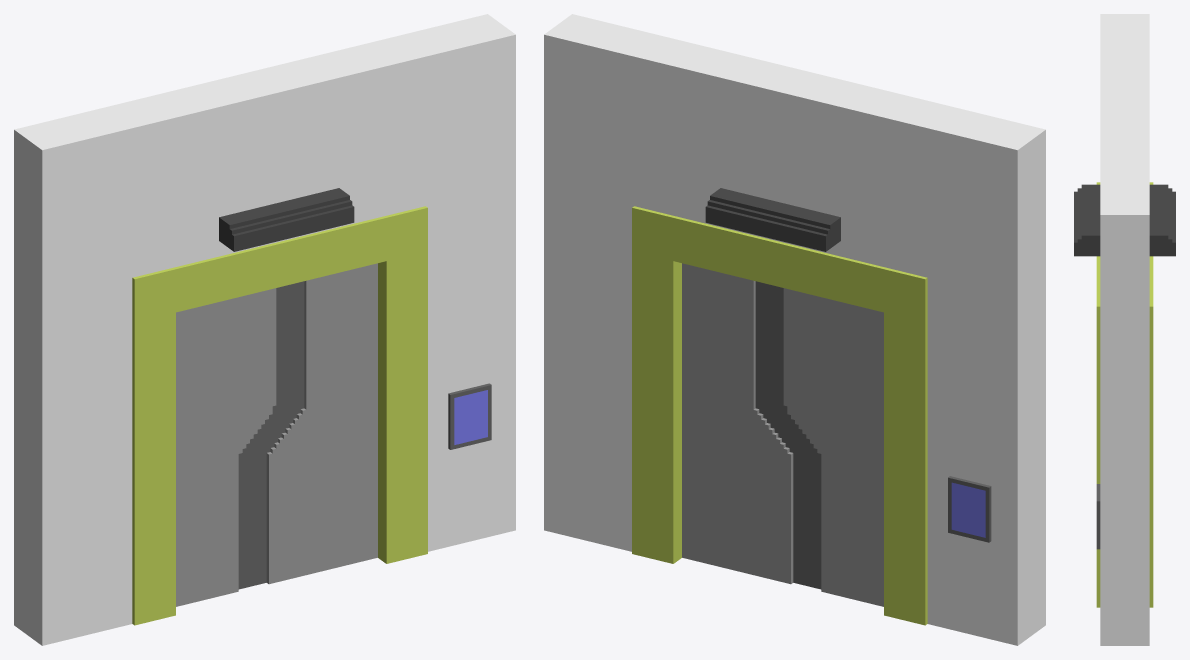
The model's file is Operating_room_Door1-1.fbx.
3 views of the same model, side by side, from view 1: azimuth 30°, elevation 25°; view 2: azimuth 150°, elevation 25°; view 3: azimuth 270°, elevation 25° (orthographic). The views are drawn at different scales.
Visible parts, largest first — view 1: Operating room Door1-1.000, Operating room Door1-1.007, Operating room Door1-1.006, Operating room Door1-1.008; view 2: Operating room Door1-1.000, Operating room Door1-1.007, Operating room Door1-1.006, Operating room Door1-1.005; view 3: Operating room Door1-1.000.
Boxes of the visible parts, <box> form: Operating room Door1-1.000: <box>14,14,515,645</box>; Operating room Door1-1.007: <box>251,263,377,586</box>; Operating room Door1-1.006: <box>176,285,289,606</box>; Operating room Door1-1.008: <box>454,390,487,444</box>; Operating room Door1-1.000: <box>544,14,1045,645</box>; Operating room Door1-1.007: <box>682,263,808,586</box>; Operating room Door1-1.006: <box>770,285,883,606</box>; Operating room Door1-1.005: <box>951,482,985,537</box>; Operating room Door1-1.000: <box>1074,14,1175,645</box>.
Size of the model in its own units: 12.6 by 12.6 by 2.7.
